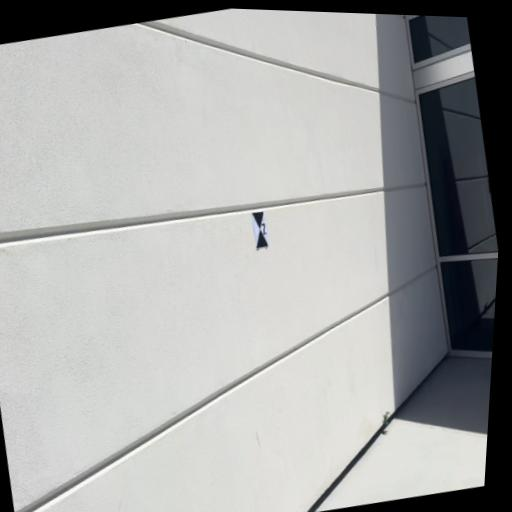target7: (252, 212, 269, 248)
